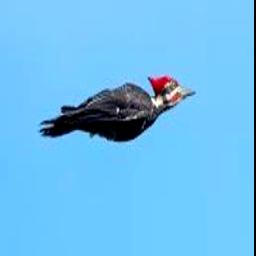Woodpecker: (38, 73, 194, 142)
